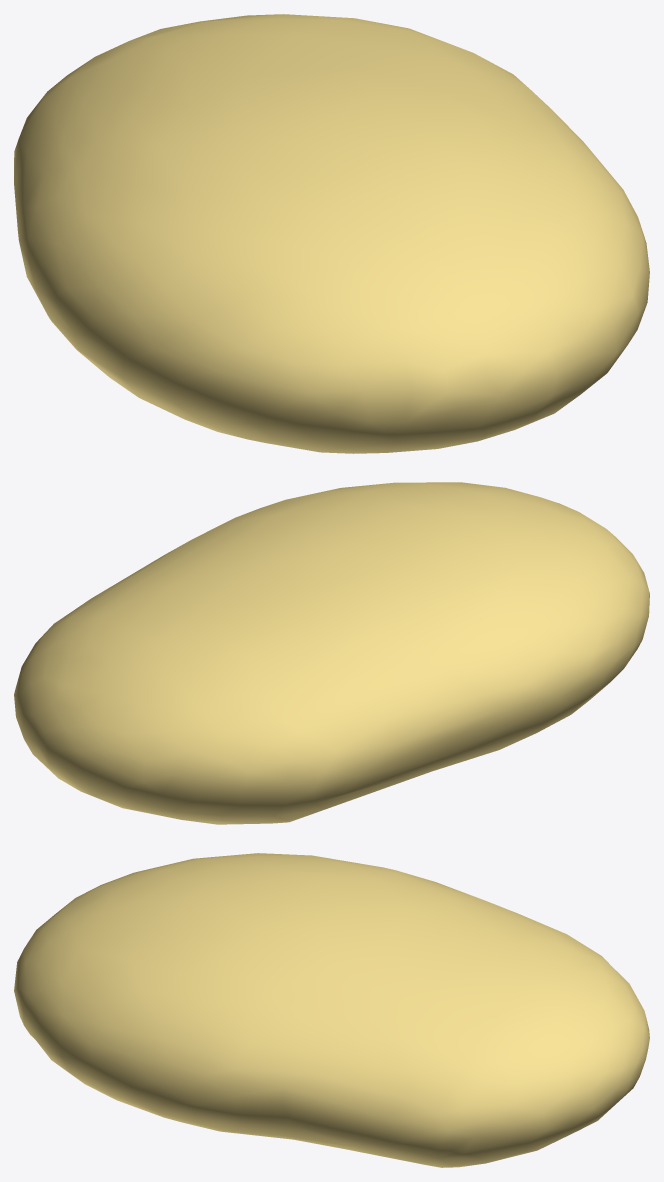
Rendered from fma226239-l_mm2788.glb.
3 views of the same model, one above another, from view 1: azimuth 30°, elevation 25°; view 2: azimuth 150°, elevation 25°; view 3: azimuth 270°, elevation 25° (orthographic). The views are drawn at different scales.
Visible parts, largest first — view 1: FMA226239-L_MM2788; view 2: FMA226239-L_MM2788; view 3: FMA226239-L_MM2788.
Boxes of the visible parts, left/top/right/bottom form: FMA226239-L_MM2788: left=14, top=14, right=649, bottom=453; FMA226239-L_MM2788: left=14, top=482, right=649, bottom=824; FMA226239-L_MM2788: left=14, top=853, right=649, bottom=1167.
Bounding box in the file's own units: 0.00346 × 0.00149 × 0.00436.
